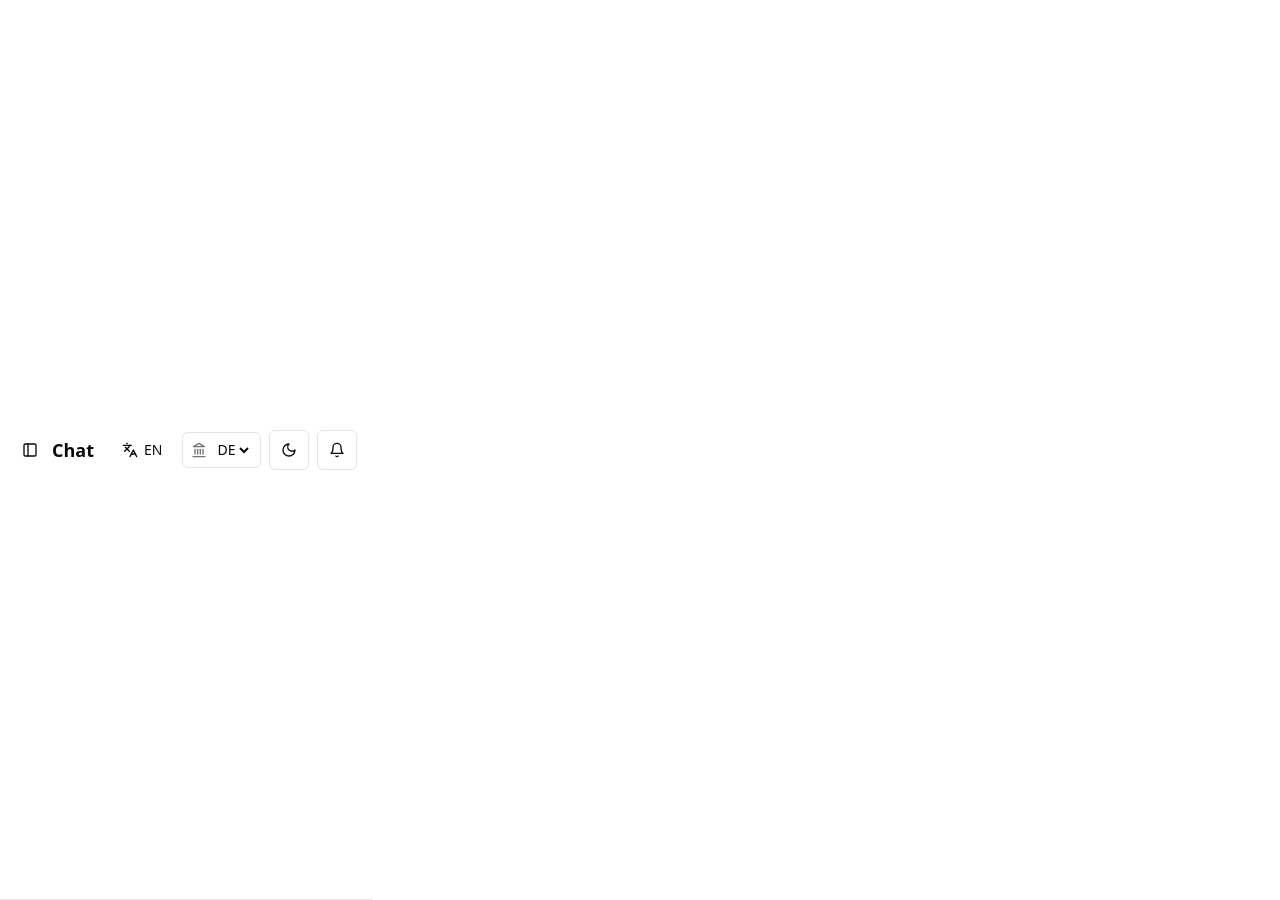
Scenario: PageHeader › labels a no_longer_available notification (de) and uses a dedicated icon, not the fallback
Click the button named "Benachrichtigungen".
click(337, 450)  # box [317,430,357,470]
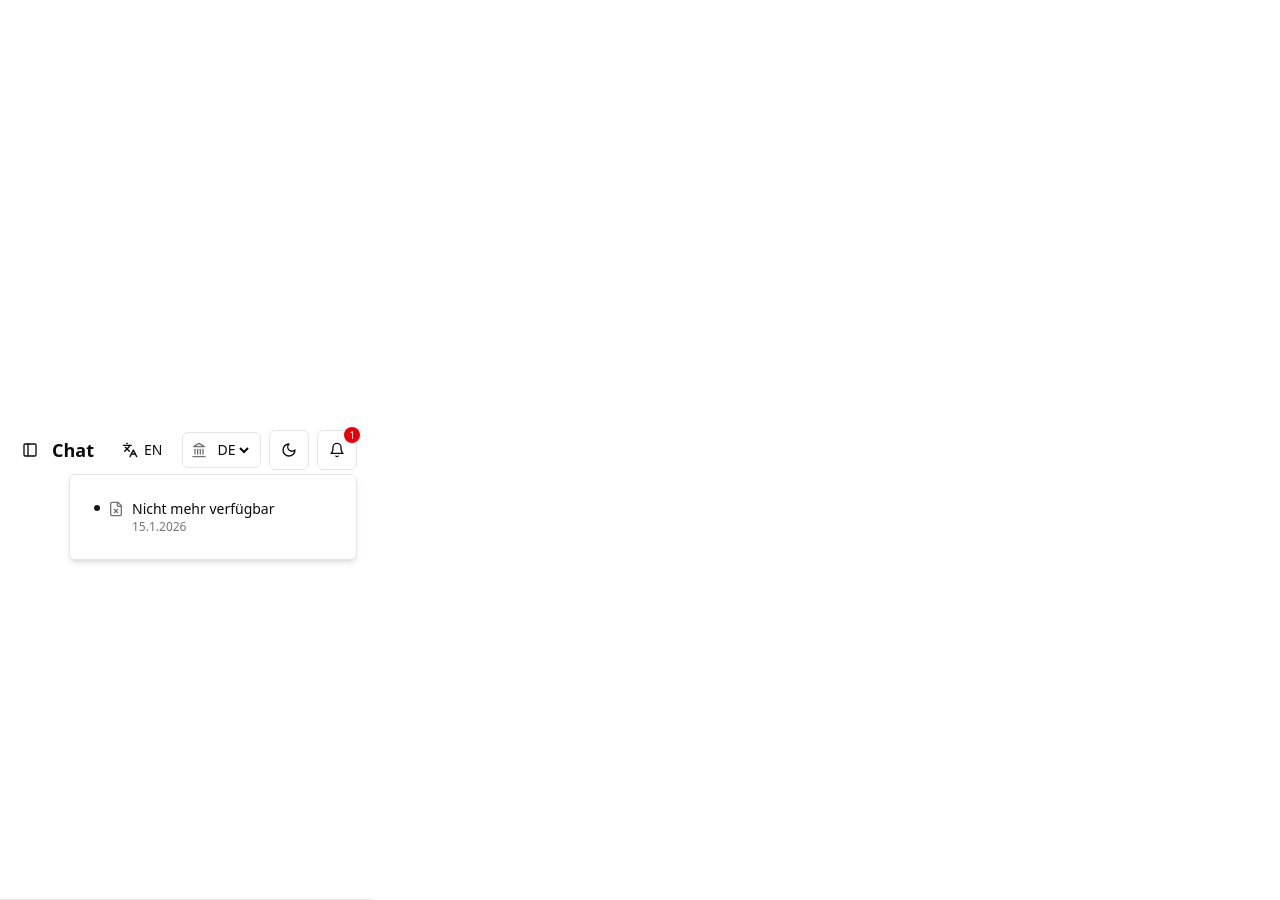
expect the text "Nicht mehr verfügbar" is shown: met, box [132,499,274,519]
expect the 6th icon is shown: met, box [108,501,124,517]
